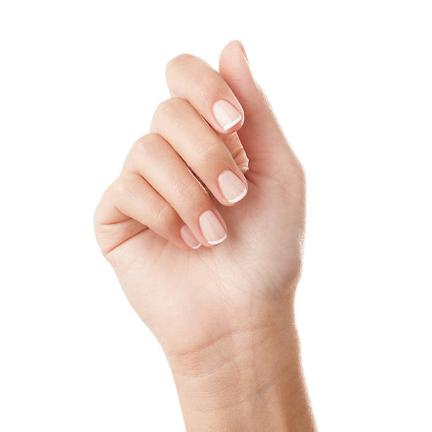Nail: (198, 210, 227, 245), (218, 170, 247, 203), (212, 100, 242, 130), (180, 225, 201, 249)
